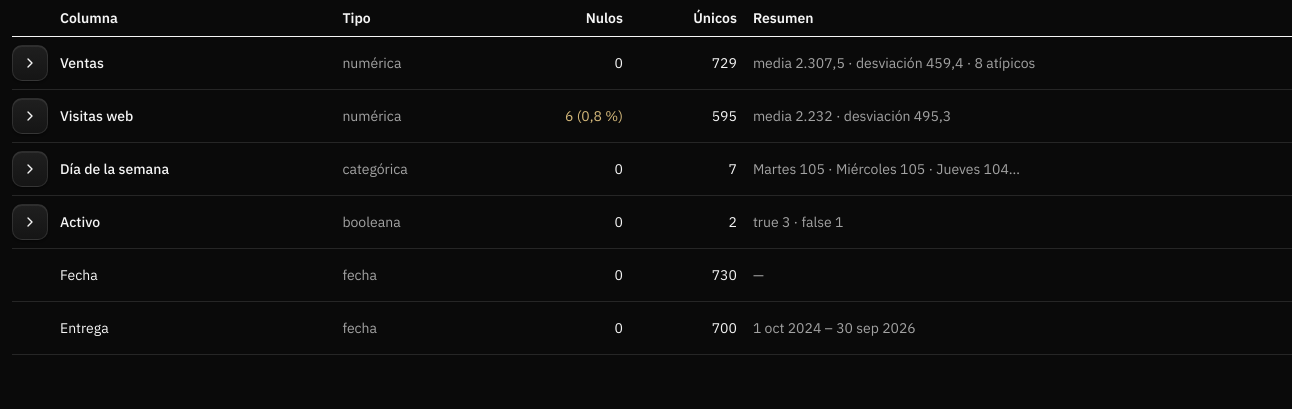
Test: ColumnTable › expands a numeric column from a button in its first cell
expect the text "Mediana" is not shown: met
Click the button "Ventas".
click(58, 63)  # box left=12, top=41, right=104, bottom=85
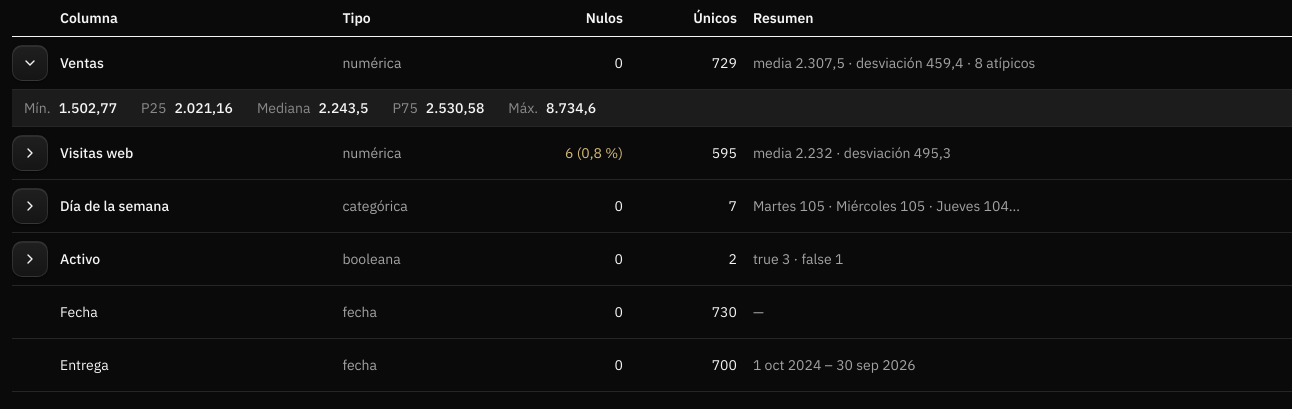
expect the button "Ventas" is expanded: met
expect the text "Mediana" reads "Mín. 1.502,77 P25 2.021,16 Mediana 2.243,5 P75 2.530,58 Máx. 8.734,6": met, box left=12, top=90, right=1291, bottom=126
Click the button "Ventas".
click(58, 63)  # box left=12, top=41, right=104, bottom=85
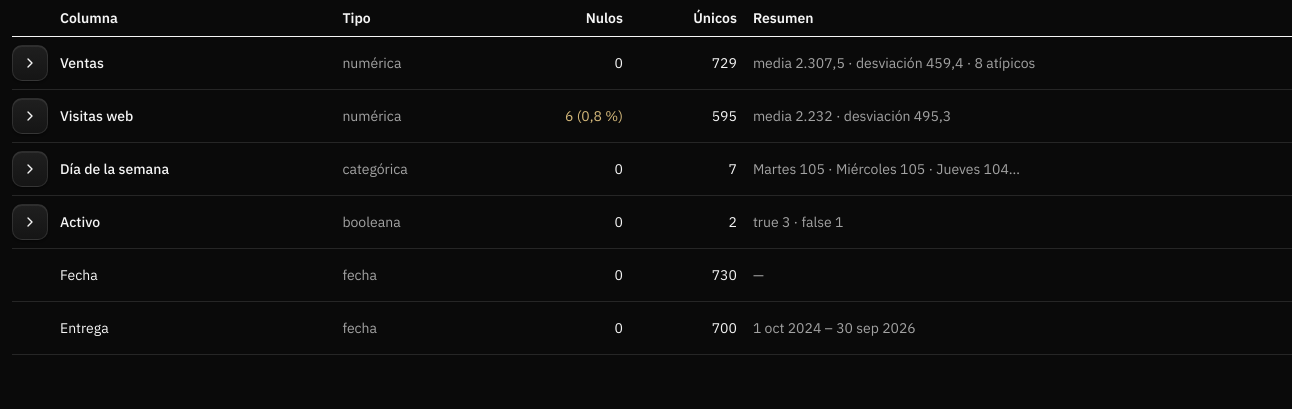
expect the button "Ventas" is collapsed: met, box left=12, top=41, right=104, bottom=85
expect the text "Mediana" is gone: met
